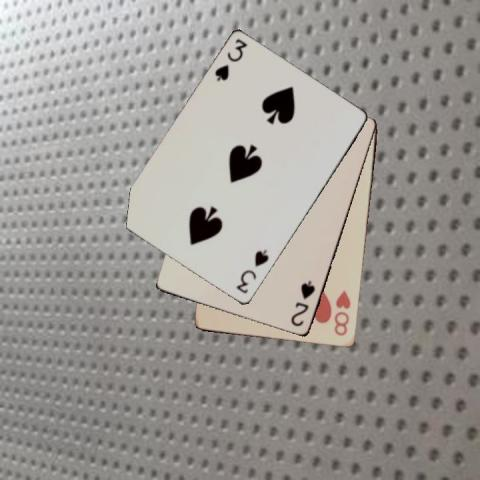2s: (288, 278, 317, 328)
3s: (233, 247, 271, 296), (211, 36, 249, 84)
8h: (331, 287, 353, 338)
